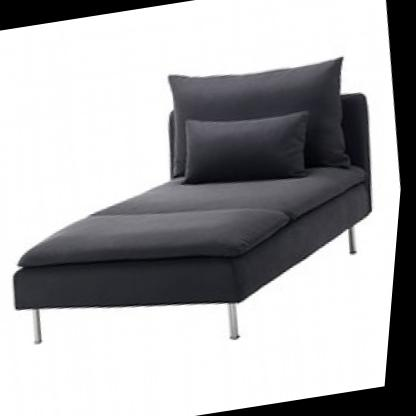Sofa: (0, 21, 412, 382)
